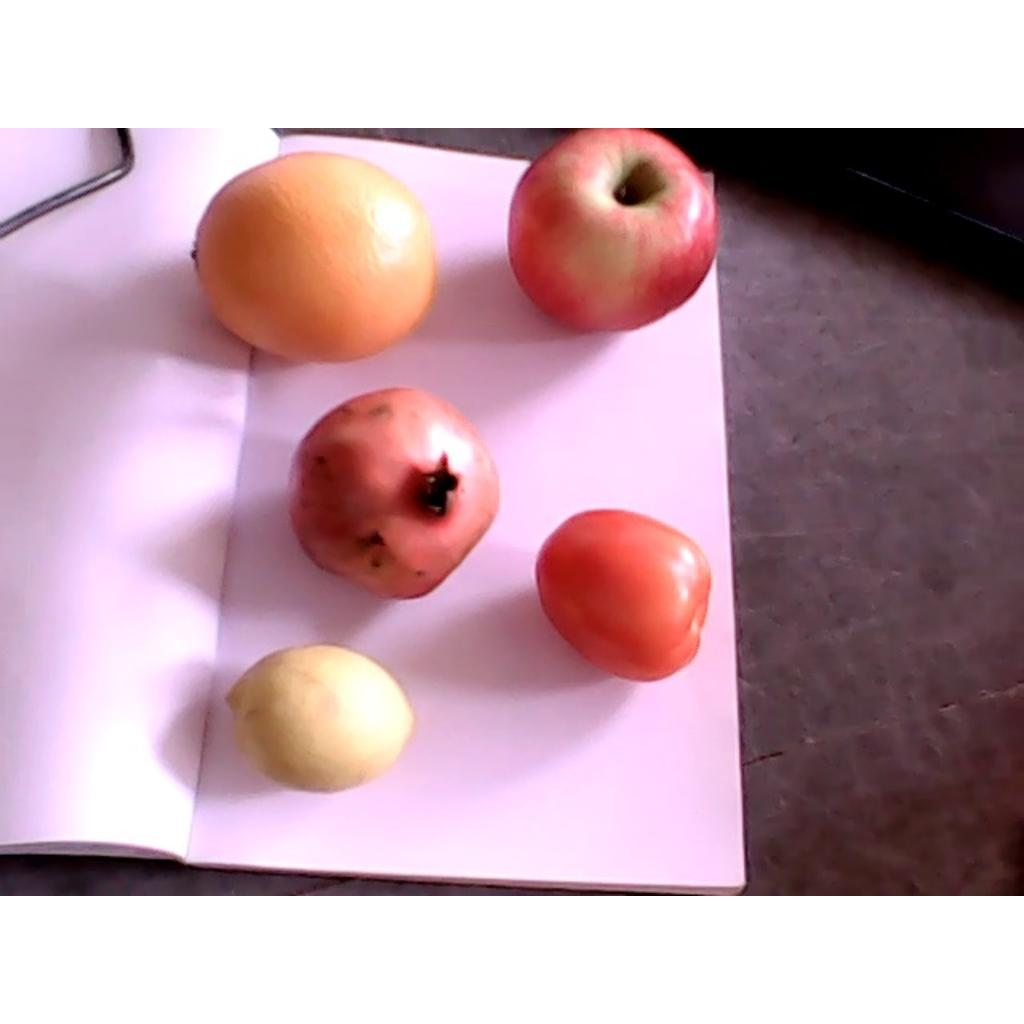apple: (507, 128, 718, 332)
lemon: (225, 643, 415, 792)
orange: (192, 151, 437, 364)
pomegranate: (290, 385, 499, 600)
tomato: (536, 510, 713, 681)
